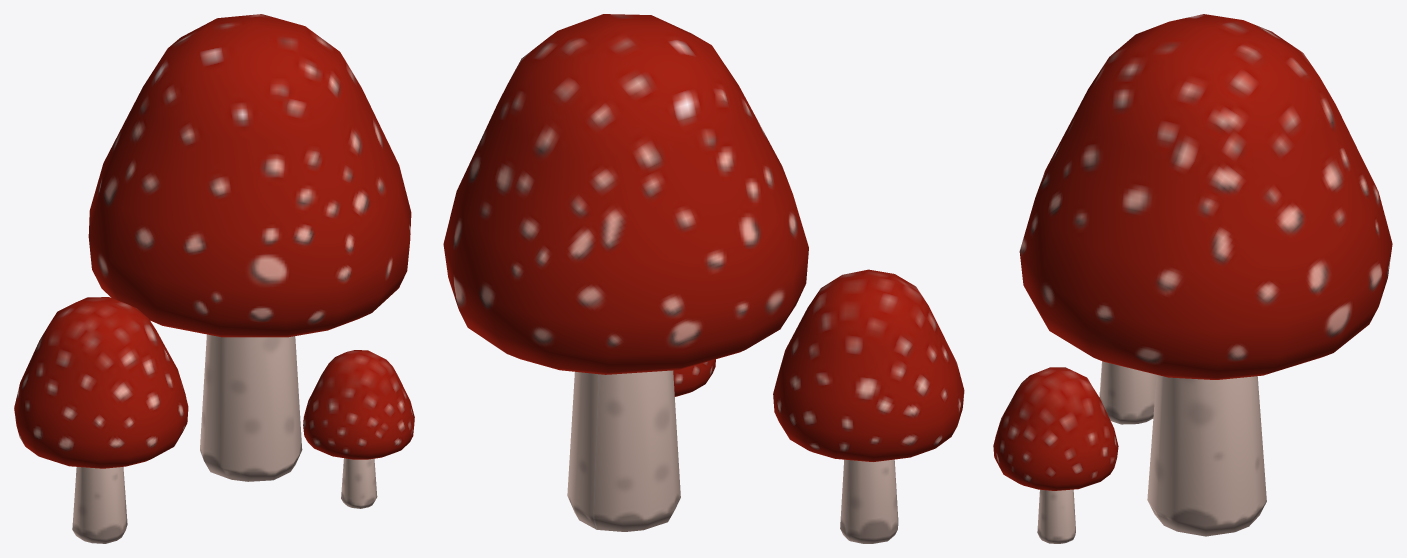
Rendered from mushroom1.glb.
3 renders of one model, left to right at view 1: azimuth 30°, elevation 25°; view 2: azimuth 150°, elevation 25°; view 3: azimuth 270°, elevation 25°, orthographic. The views are drawn at different scales.
Visible parts, largest first — view 1: Object_4; view 2: Object_4; view 3: Object_4.
Boxes of the visible parts, x1,y1,x2,y2 form: Object_4: (14, 14, 414, 543); Object_4: (443, 14, 964, 543); Object_4: (993, 14, 1392, 543).
Size of the model in its own units: 0.6894 by 0.7135 by 0.5295.
1 material, 1 textured.
